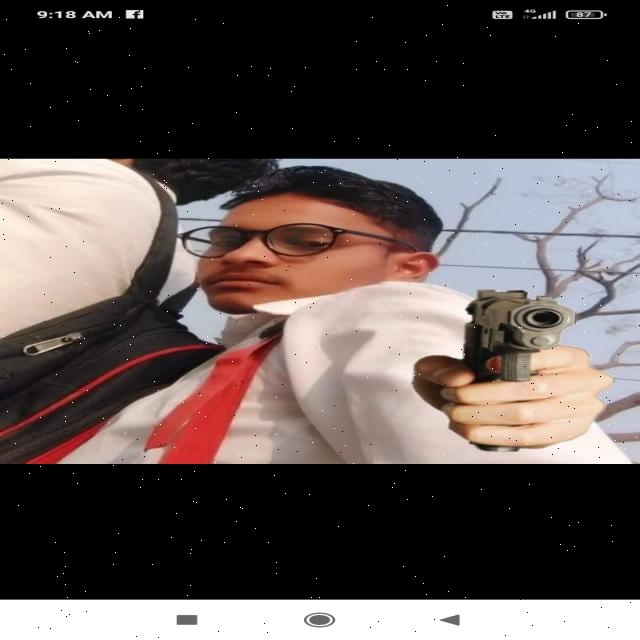gun: (402, 283, 624, 456)
